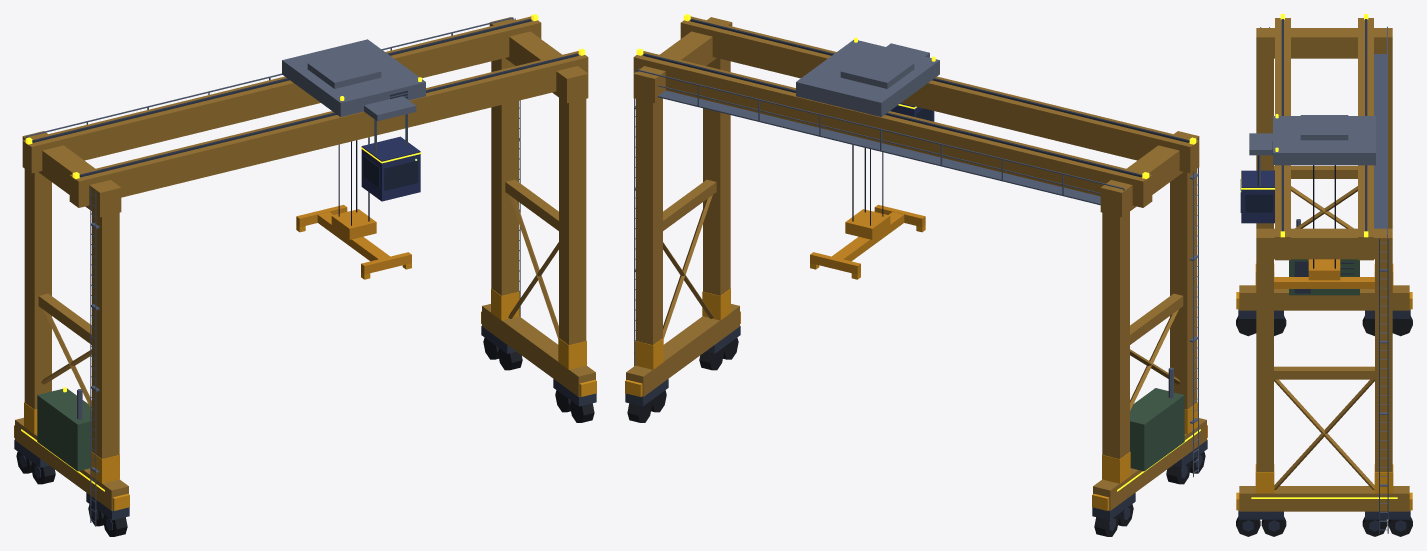
The model's file is port_gantry_crane.glb.
3 views of the same model, side by side, from view 1: azimuth 30°, elevation 25°; view 2: azimuth 150°, elevation 25°; view 3: azimuth 270°, elevation 25° (orthographic). The views are drawn at different scales.
Visible parts, largest first — view 1: frame, trolley, running_gear, power_house, steelwork, hazard, spreader, wheel, cabin, cabin_glass; view 2: frame, steelwork, trolley, running_gear, power_house, hazard, spreader, wheel; view 3: frame, trolley, steelwork, running_gear, wheel, spreader, hazard, cabin, power_house, cabin_glass, position_light, hoist_rope.
Boxes of the visible parts, x1,y1,x2,y2 form: frame: [15, 16, 595, 510]; trolley: [282, 39, 425, 121]; running_gear: [14, 19, 596, 530]; power_house: [37, 388, 91, 471]; steelwork: [25, 17, 520, 526]; hazard: [14, 225, 596, 510]; spreader: [296, 204, 411, 274]; wheel: [16, 337, 594, 536]; cabin: [361, 136, 420, 201]; cabin_glass: [363, 156, 418, 190]; frame: [626, 16, 1206, 510]; steelwork: [634, 67, 1198, 477]; trolley: [796, 40, 939, 116]; running_gear: [625, 19, 1207, 530]; power_house: [1130, 388, 1184, 471]; hazard: [625, 225, 1207, 510]; spreader: [810, 204, 925, 274]; wheel: [627, 337, 1205, 536]; frame: [1239, 18, 1409, 511]; trolley: [1249, 115, 1375, 165]; steelwork: [1257, 26, 1388, 533]; running_gear: [1238, 19, 1410, 531]; wheel: [1236, 316, 1412, 536]; spreader: [1274, 259, 1374, 288]; hazard: [1236, 264, 1412, 510]; cabin: [1241, 170, 1274, 223]; power_house: [1289, 259, 1359, 295]; cabin_glass: [1240, 179, 1272, 212]; position_light: [1241, 14, 1397, 498]; hoist_rope: [1313, 165, 1335, 268].
Size of the model in its own units: 26.22 by 18.18 by 8.94.
